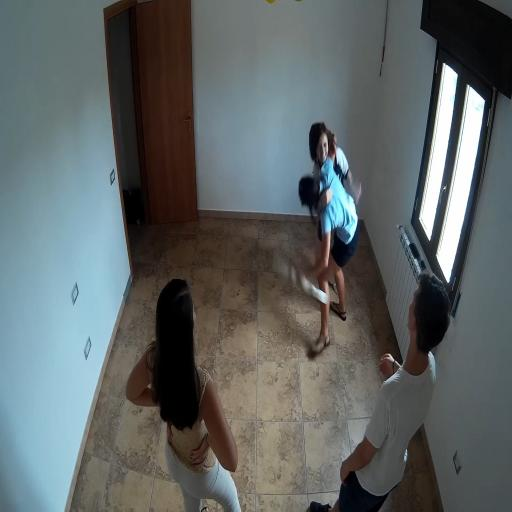violencia: (254, 104, 368, 377)
